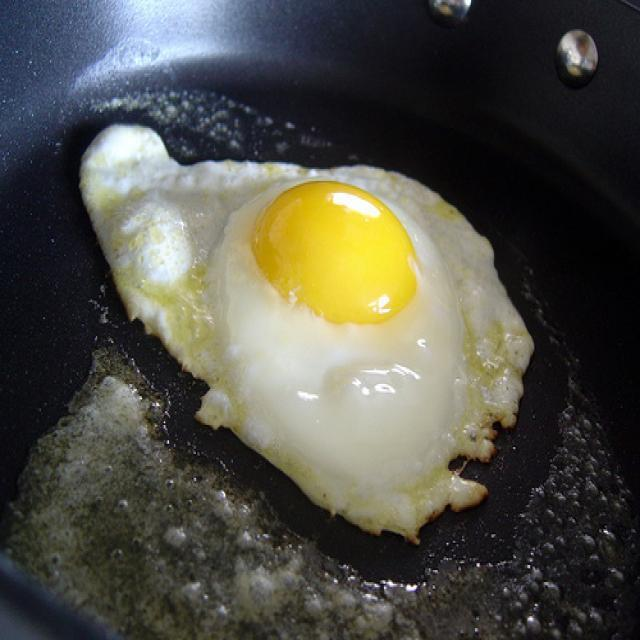Egg: (70, 103, 538, 540)
